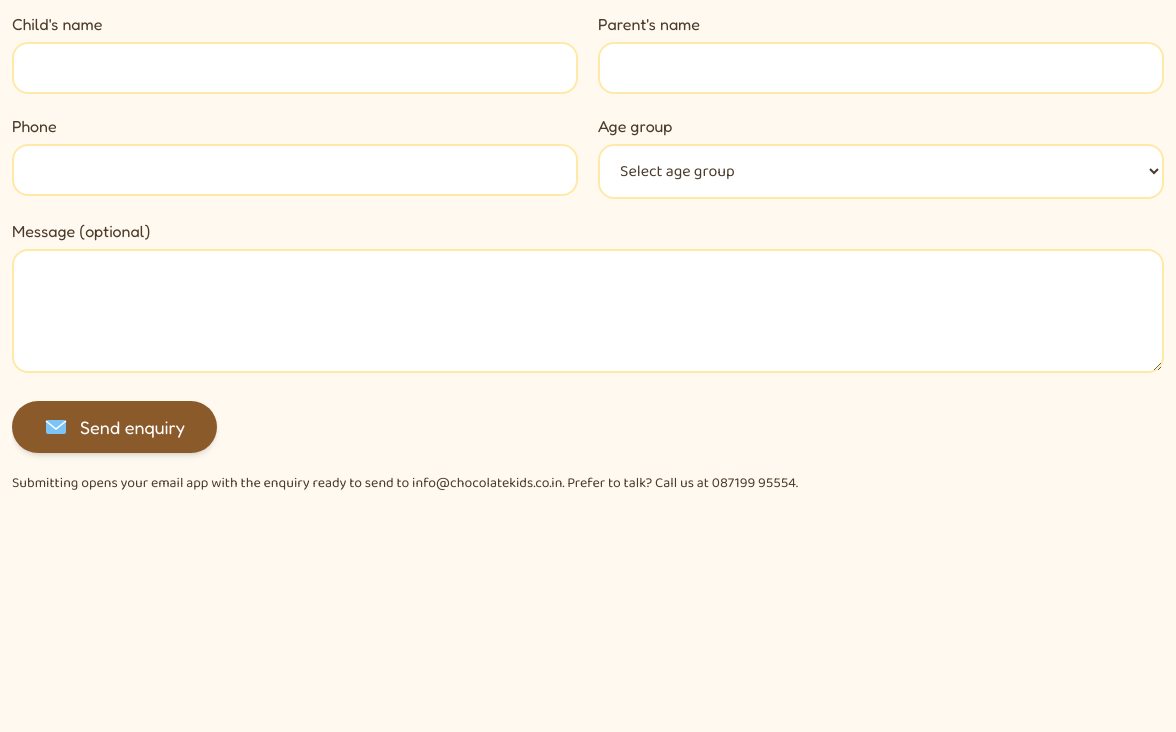
Scenario: InquiryForm › shows validation errors on empty submit
Click the button "Send enquiry": (114, 427) x1=12 y1=401 x2=217 y2=453
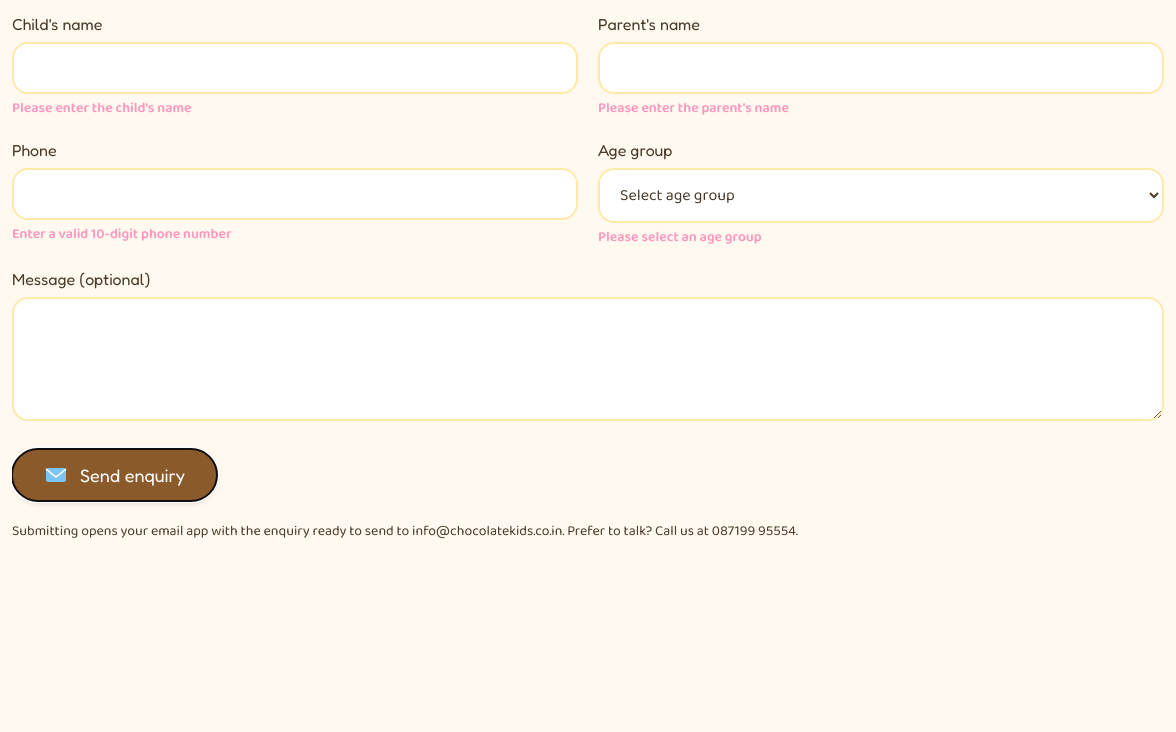
Now the text "Please enter the child's name" is shown, box x1=12 y1=97 x2=192 y2=119
Now the text "Please enter the parent's name" is shown, box x1=598 y1=97 x2=789 y2=119
Now the text "Enter a valid 10-digit phone number" is shown, box x1=12 y1=223 x2=231 y2=245
